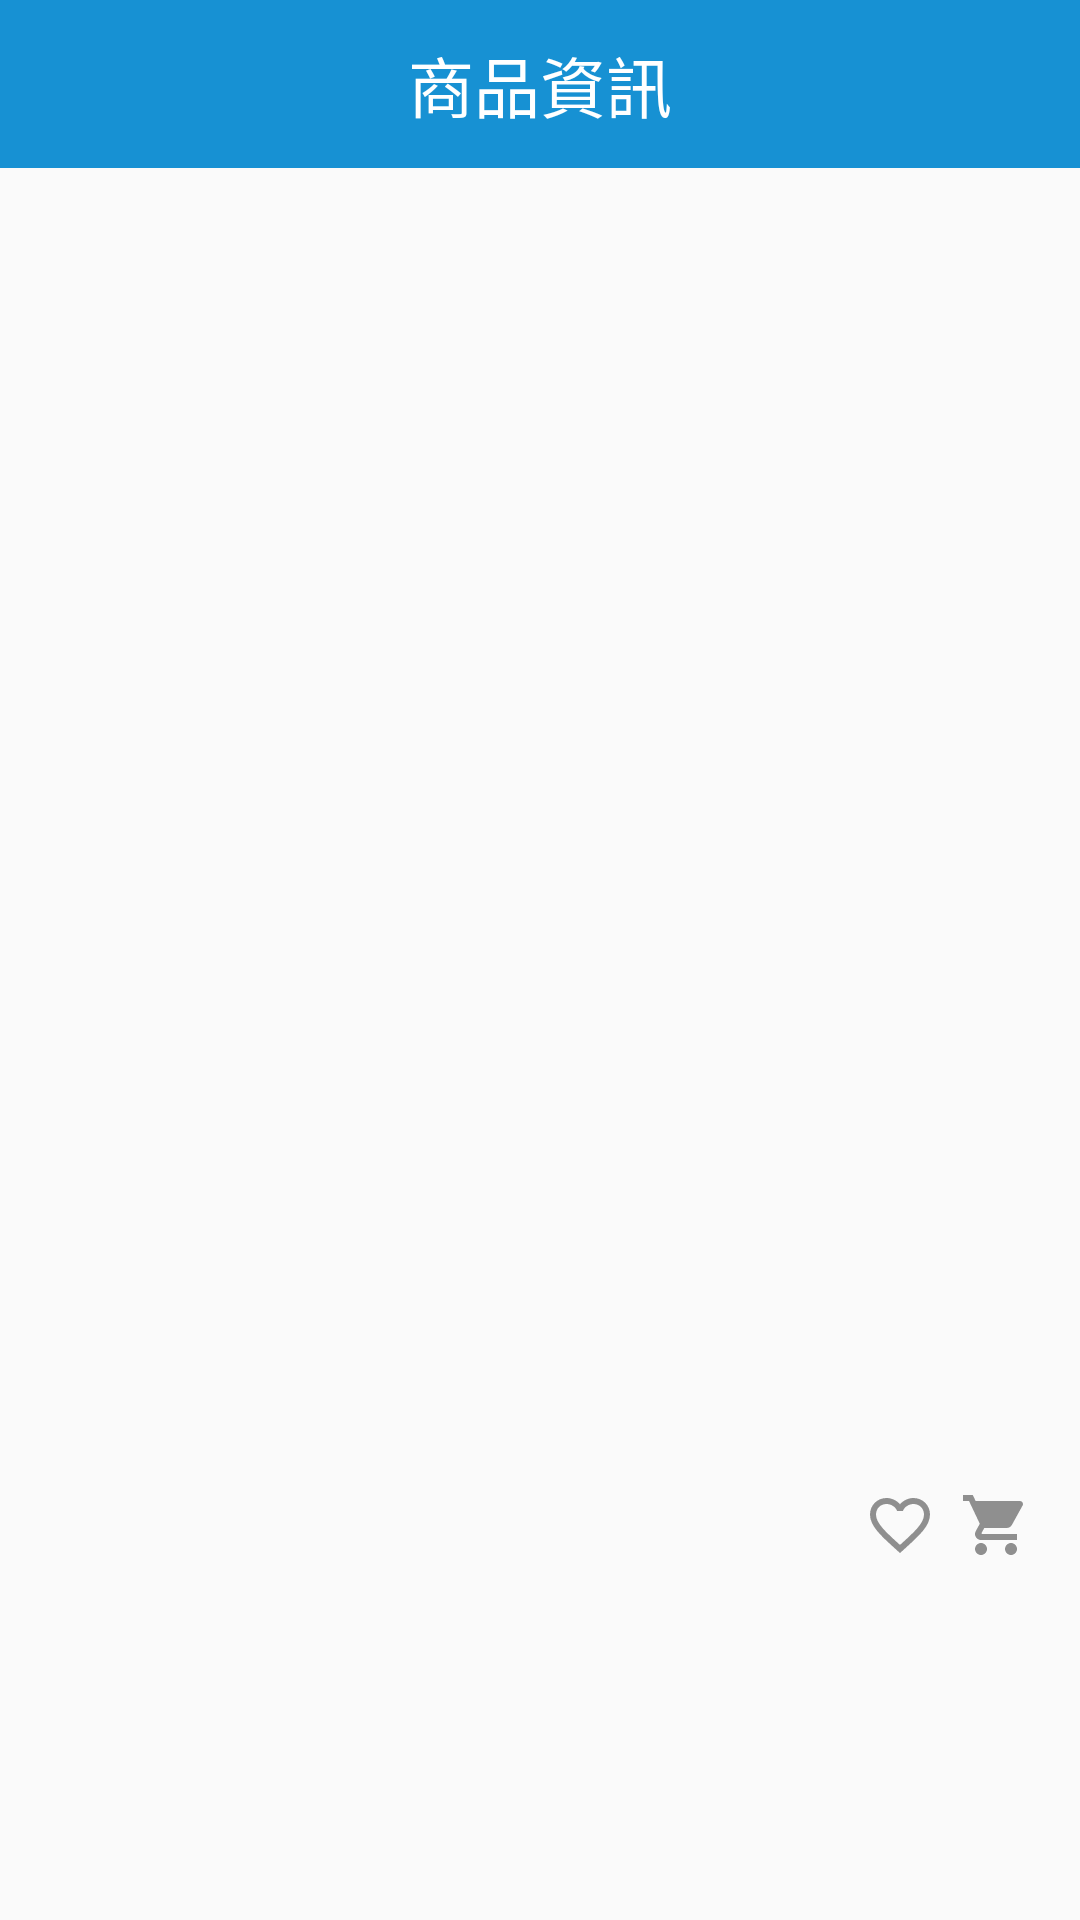

Icons on this 1080*1920 Android screen, each with the point to tap as [x,y]:
favorite: [900,1525]
shopping cart: [993,1525]
